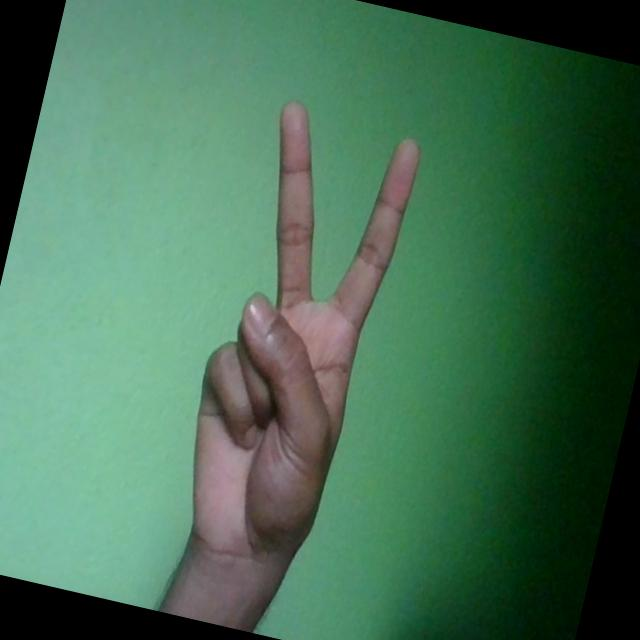Fist: (162, 95, 427, 588)
